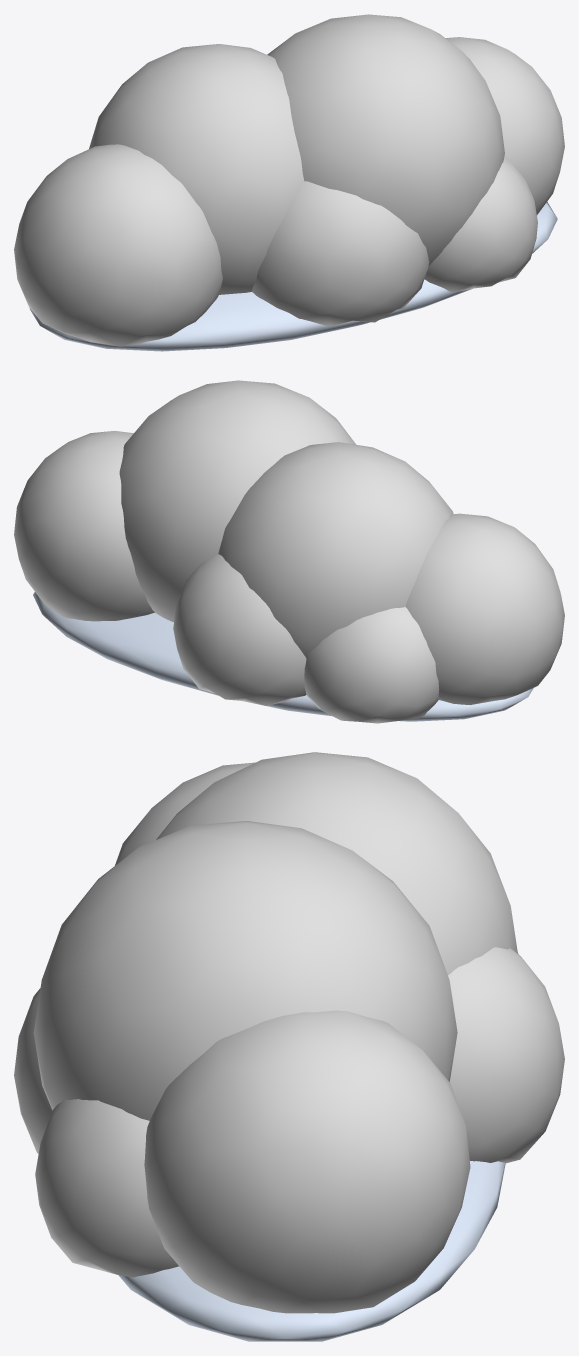
File: SkyStackCloud.obj
3 renders of one model, top to bottom at view 1: azimuth 30°, elevation 25°; view 2: azimuth 150°, elevation 25°; view 3: azimuth 270°, elevation 25°, orthographic. The views are drawn at different scales.
Parts seen in each view (by area): view 1: Cloud, Shade; view 2: Cloud, Shade; view 3: Cloud, Shade.
Part boxes in pixels (x1,y1,x2,y2): Cloud: [14, 14, 564, 346]; Shade: [29, 202, 557, 351]; Cloud: [14, 380, 564, 723]; Shade: [33, 592, 533, 721]; Cloud: [14, 752, 564, 1313]; Shade: [118, 1161, 505, 1341].
Bounding box in the file's own units: 9.7 × 4.58 × 5.69.
